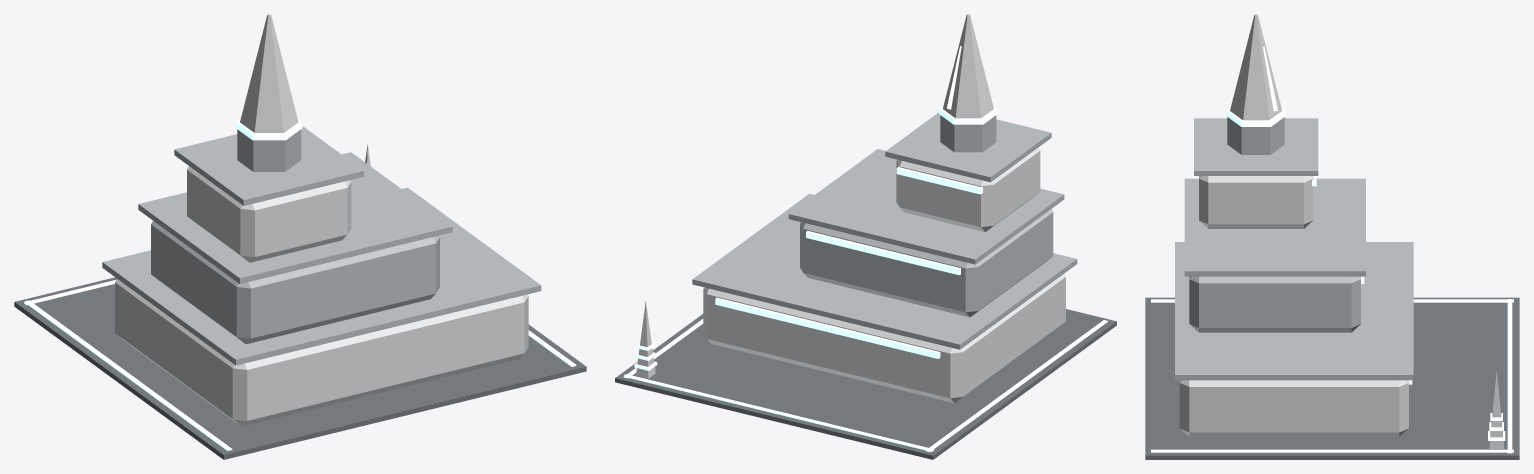
File: zone_low_6_t3.glb
The picture shows the model from 3 angles, left to right: view 1: azimuth 30°, elevation 25°; view 2: azimuth 150°, elevation 25°; view 3: azimuth 270°, elevation 25°; orthographic projection. The views are drawn at different scales.
Visible parts, largest first — view 1: zone_low_6_t3, detail; view 2: zone_low_6_t3, detail; view 3: zone_low_6_t3, detail.
Part boxes in pixels (x1=…): zone_low_6_t3: x1=14, y1=14, x2=586, y2=459; detail: x1=24, y1=144, x2=576, y2=450; zone_low_6_t3: x1=615, y1=14, x2=1116, y2=459; detail: x1=623, y1=300, x2=1107, y2=451; zone_low_6_t3: x1=1145, y1=14, x2=1519, y2=459; detail: x1=1151, y1=299, x2=1513, y2=453.
Size of the model in its own units: 19.6 by 19.3 by 19.6.
